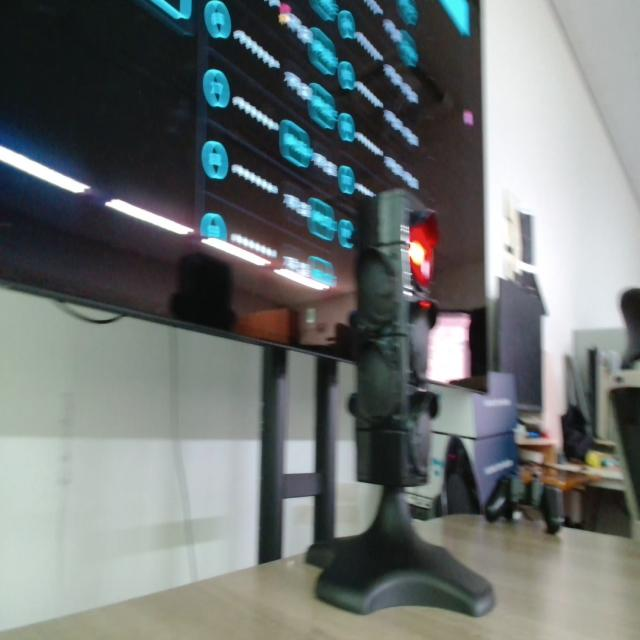red_light: (409, 216, 438, 288)
